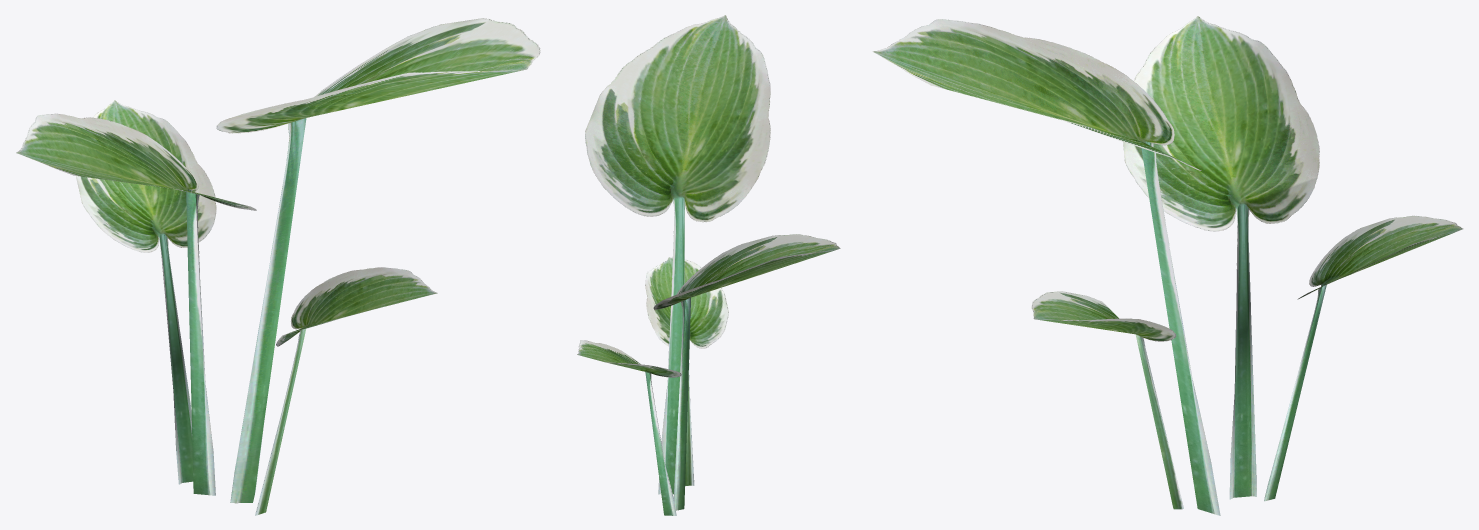
The model's file is plant_small_wg_05Z.fbx.
3 views of the same model, side by side, from view 1: azimuth 30°, elevation 25°; view 2: azimuth 150°, elevation 25°; view 3: azimuth 270°, elevation 25° (orthographic). The views are drawn at different scales.
Visible parts, largest first — view 1: plant_small_wg_05Z; view 2: plant_small_wg_05Z; view 3: plant_small_wg_05Z.
Part boxes in pixels (box(x1,y1,x2,y2)): plant_small_wg_05Z: box(16, 18, 540, 515); plant_small_wg_05Z: box(577, 15, 840, 515); plant_small_wg_05Z: box(873, 16, 1463, 515).
Bounding box in the file's own units: 43.1 × 53.16 × 56.66.
